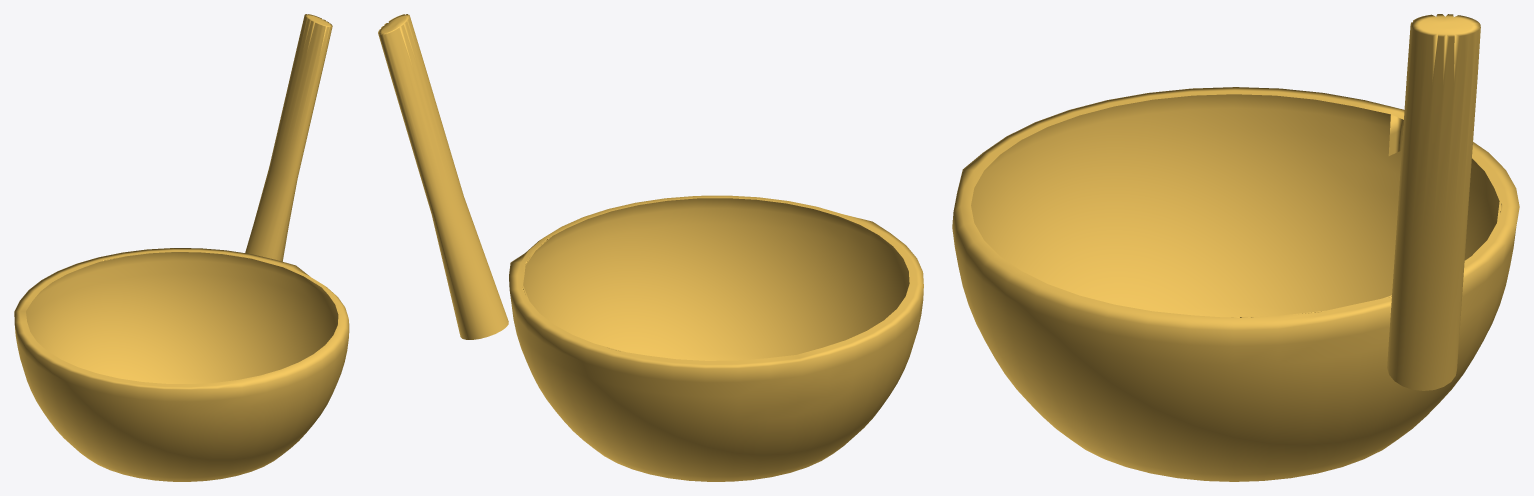
The model's file is Bowl.fbx.
3 views of the same model, side by side, from view 1: azimuth 30°, elevation 25°; view 2: azimuth 150°, elevation 25°; view 3: azimuth 270°, elevation 25° (orthographic). The views are drawn at different scales.
Visible parts, largest first — view 1: Bowl1; view 2: Bowl1; view 3: Bowl1.
Part boxes in pixels (left/top/right/bottom): Bowl1: left=14, top=14, right=349, bottom=481; Bowl1: left=378, top=14, right=923, bottom=481; Bowl1: left=952, top=14, right=1519, bottom=481.
Size of the model in its own units: 6.59 by 5.99 by 5.44.
